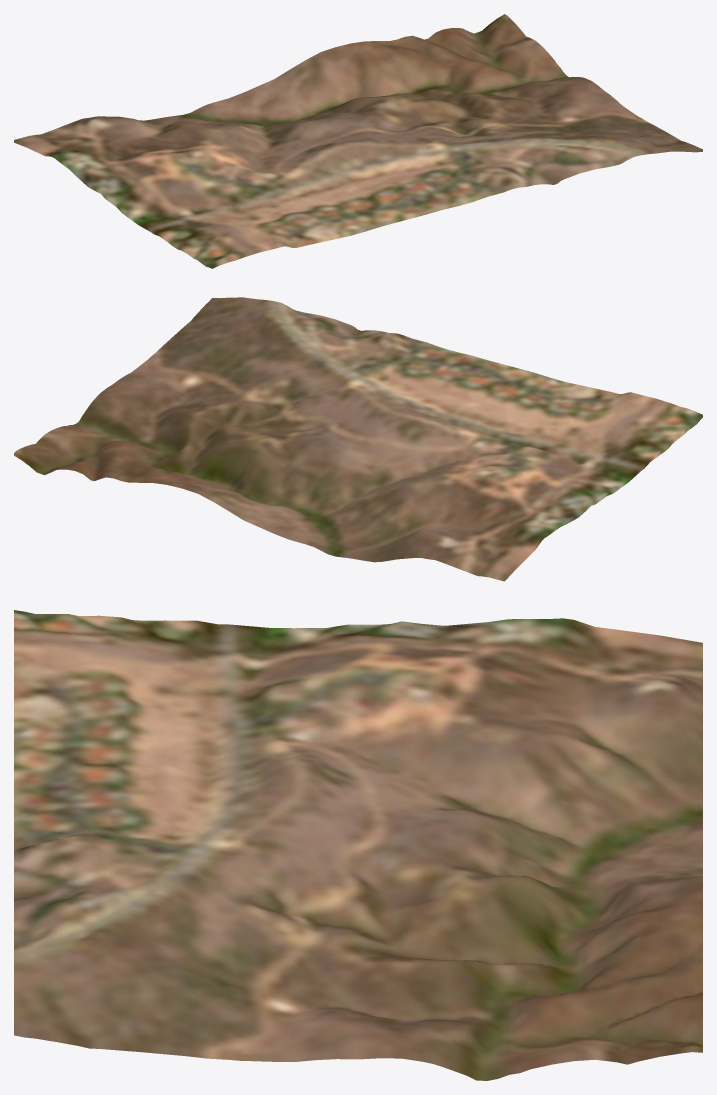
File: terrain_r5_c0_lod1.glb
3 renders of one model, top to bottom at view 1: azimuth 30°, elevation 25°; view 2: azimuth 150°, elevation 25°; view 3: azimuth 270°, elevation 25°, orthographic. The views are drawn at different scales.
Parts seen in each view (by area): view 1: terrain_r5_c0_lod1; view 2: terrain_r5_c0_lod1; view 3: terrain_r5_c0_lod1.
Part boxes in pixels (x1,y1,x2,y2): terrain_r5_c0_lod1: (14,14,702,268); terrain_r5_c0_lod1: (14,297,702,581); terrain_r5_c0_lod1: (14,610,702,1080).
Bounding box in the file's own units: 1125 × 109 × 787.
Materials: 1 (1 with a texture image).
